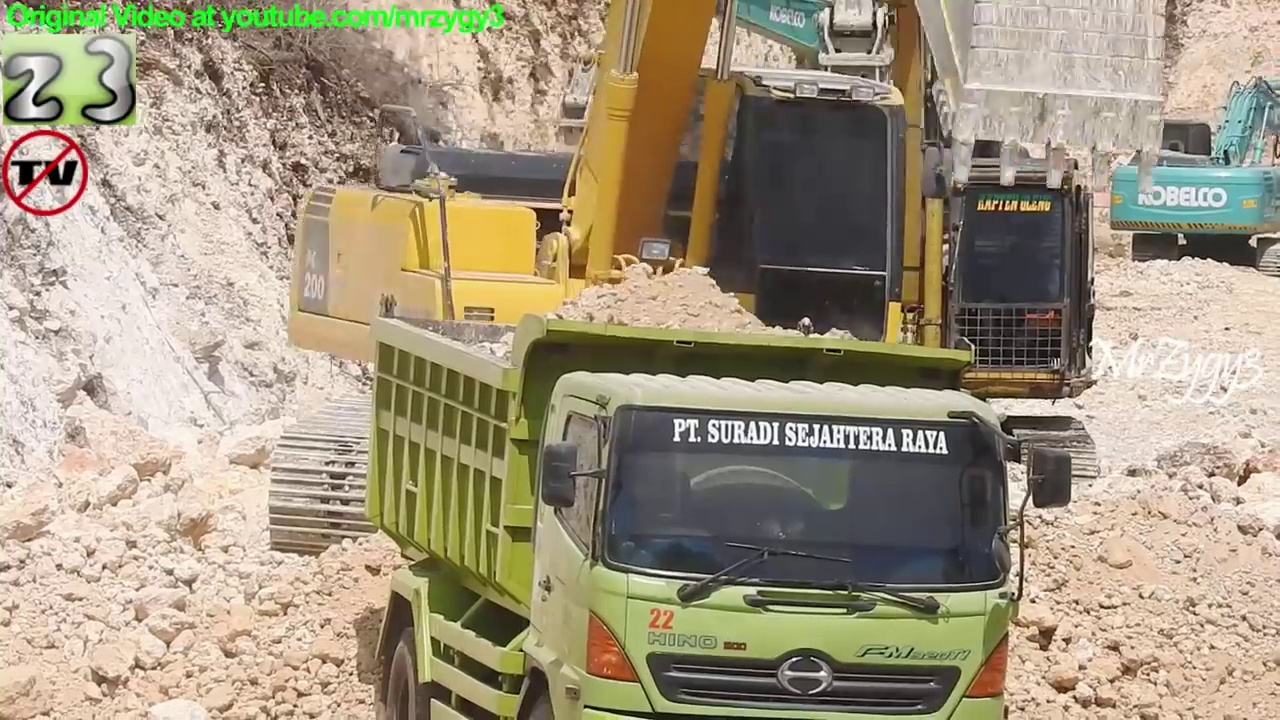excavator: (261, 5, 874, 567), (455, 2, 1105, 521), (1103, 72, 1280, 282)
truck: (367, 312, 1081, 720)
